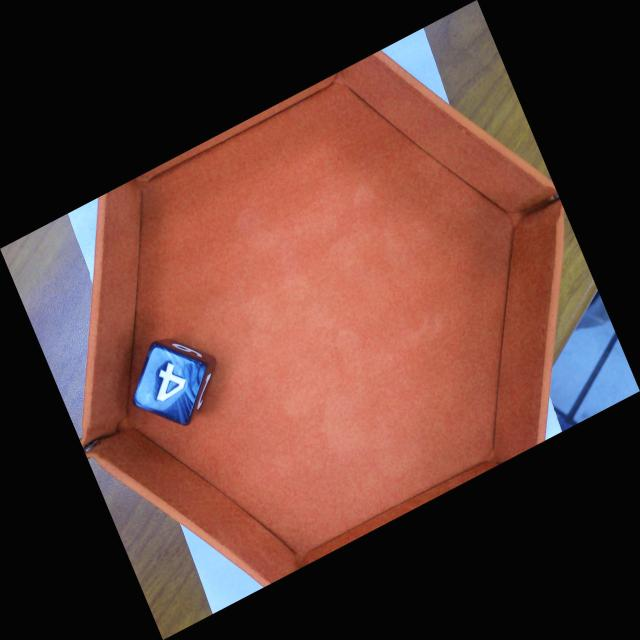dice: (138, 350, 205, 424)
